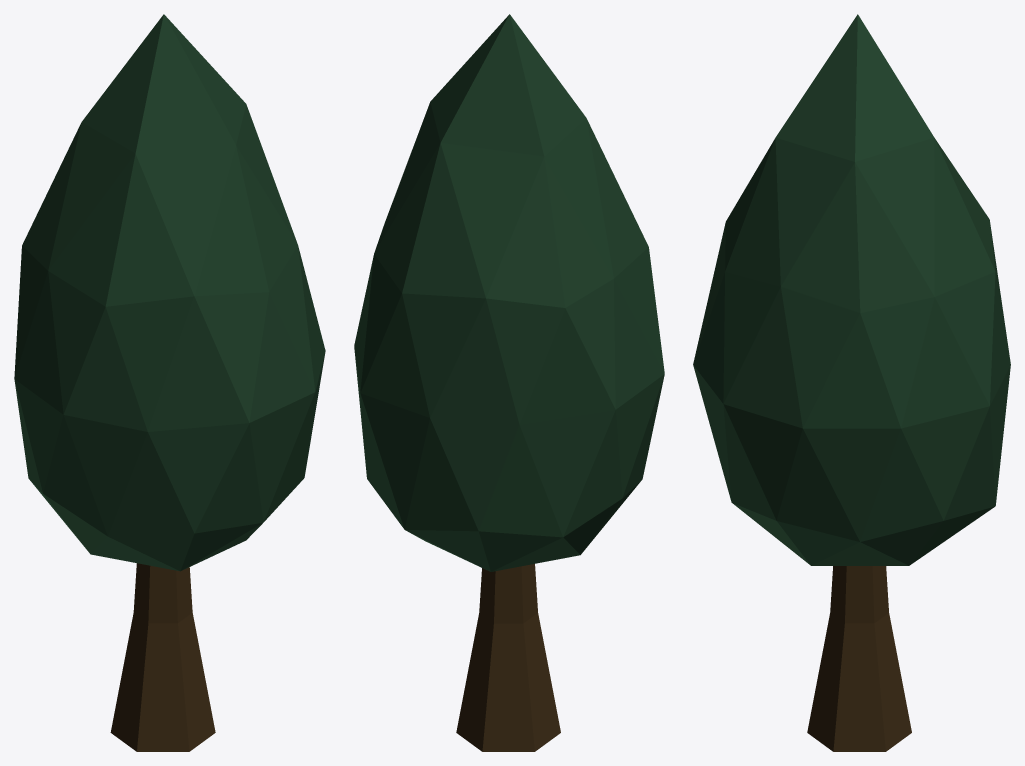
The model's file is Cyprus1.fbx.
3 views of the same model, side by side, from view 1: azimuth 30°, elevation 25°; view 2: azimuth 150°, elevation 25°; view 3: azimuth 270°, elevation 25° (orthographic).
Visible parts, largest first — view 1: Icosphere, Cylinder; view 2: Icosphere, Cylinder; view 3: Icosphere, Cylinder.
Part boxes in pixels (<box>): Icosphere: <box>14,14,325,571</box>; Cylinder: <box>110,563,215,751</box>; Icosphere: <box>354,14,664,571</box>; Cylinder: <box>456,564,560,751</box>; Icosphere: <box>693,14,1010,565</box>; Cylinder: <box>807,566,911,751</box>.
Bounding box in the file's own units: 305 × 800 × 321.
